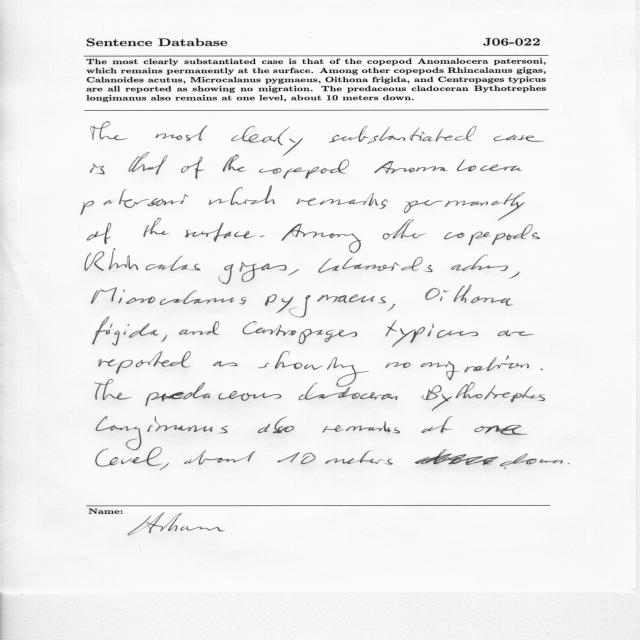word: (92, 287, 247, 318), (96, 416, 228, 450), (259, 351, 370, 387), (422, 382, 546, 411), (404, 192, 525, 221), (146, 383, 282, 407), (265, 294, 386, 318), (415, 449, 563, 468), (81, 189, 189, 215), (421, 356, 529, 381), (329, 126, 476, 144), (242, 321, 357, 344), (85, 249, 201, 271), (386, 320, 478, 347), (282, 224, 362, 253), (374, 159, 522, 174), (231, 126, 303, 156), (98, 351, 191, 374), (444, 225, 540, 246), (92, 318, 159, 346), (425, 285, 513, 306), (318, 257, 433, 273), (259, 159, 349, 179), (299, 383, 398, 400), (218, 262, 287, 284), (296, 193, 388, 209), (185, 222, 255, 242), (96, 447, 162, 467), (184, 450, 255, 465), (325, 450, 393, 465), (451, 254, 508, 271), (322, 422, 400, 434), (129, 152, 168, 175), (383, 219, 426, 239), (231, 186, 275, 205), (156, 125, 208, 141), (95, 379, 132, 400), (91, 122, 128, 141), (258, 417, 294, 434), (179, 321, 219, 335), (475, 425, 528, 435), (422, 416, 453, 433), (181, 157, 204, 179), (88, 223, 112, 244), (143, 218, 169, 237), (277, 452, 316, 464), (223, 155, 247, 172), (494, 135, 545, 142), (498, 330, 535, 336), (385, 362, 411, 368), (91, 164, 105, 175), (213, 361, 238, 366), (209, 199, 229, 205), (509, 271, 520, 279), (288, 269, 299, 276), (159, 463, 169, 470), (388, 304, 395, 312), (161, 335, 167, 342), (261, 236, 265, 237), (541, 368, 543, 370), (568, 463, 570, 464)
